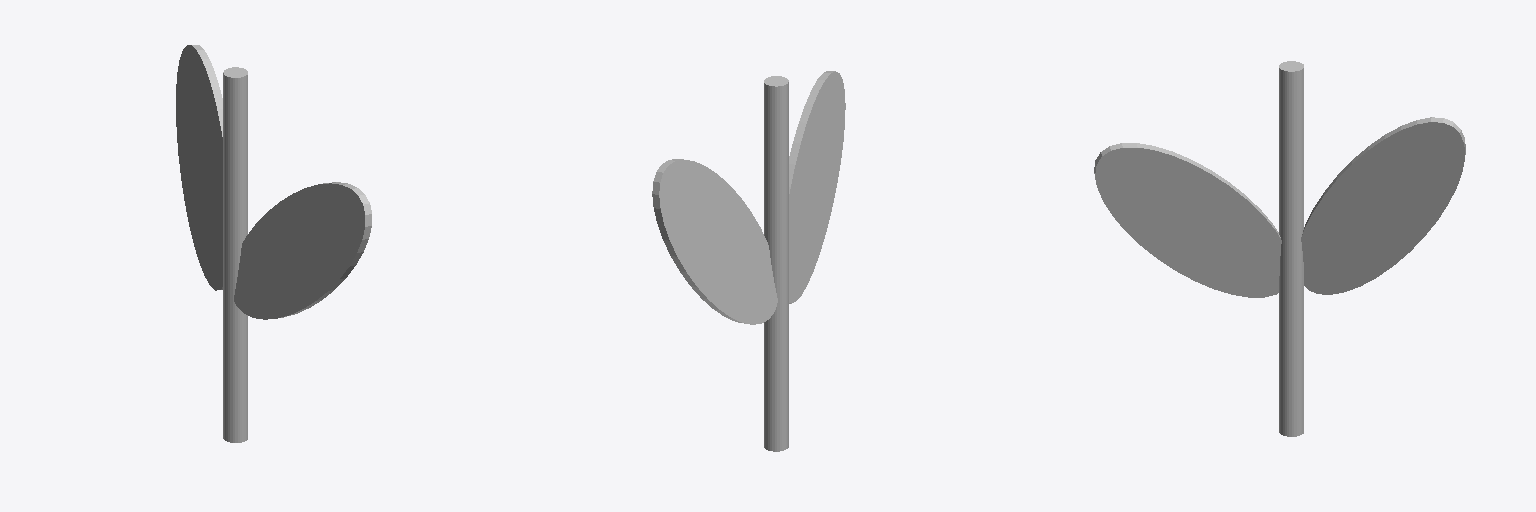
File: lodyga.obj
The picture shows the model from 3 angles: view 1: azimuth 30°, elevation 25°; view 2: azimuth 150°, elevation 25°; view 3: azimuth 270°, elevation 25°; orthographic projection.
Parts seen in each view (by area): view 1: Walec.002, Walec.001, Walec; view 2: Walec.001, Walec.002, Walec; view 3: Walec.002, Walec.001, Walec.
Part boxes in pixels (left/top/right/bottom): Walec.002: left=234, top=182, right=371, bottom=319; Walec.001: left=176, top=45, right=222, bottom=290; Walec: left=223, top=67, right=247, bottom=442; Walec.001: left=652, top=159, right=777, bottom=324; Walec.002: left=789, top=71, right=845, bottom=303; Walec: left=764, top=76, right=788, bottom=451; Walec.002: left=1094, top=143, right=1281, bottom=297; Walec.001: left=1301, top=117, right=1465, bottom=294; Walec: left=1279, top=61, right=1303, bottom=436.
Bounding box in the file's own units: 0.4601 × 3.2 × 2.95.